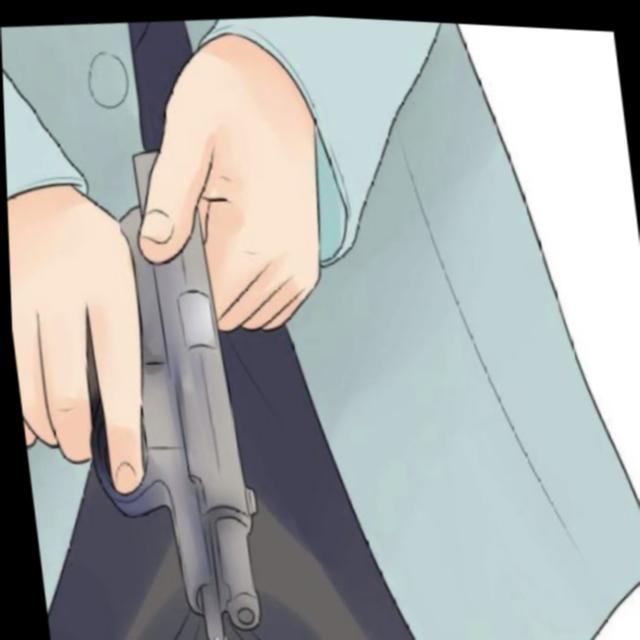weapon: (4, 136, 252, 640)
